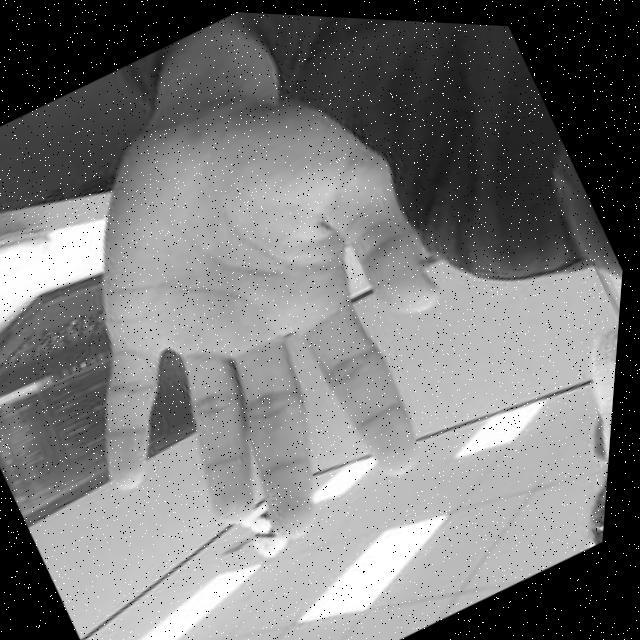no-gloves: (0, 29, 549, 611)
